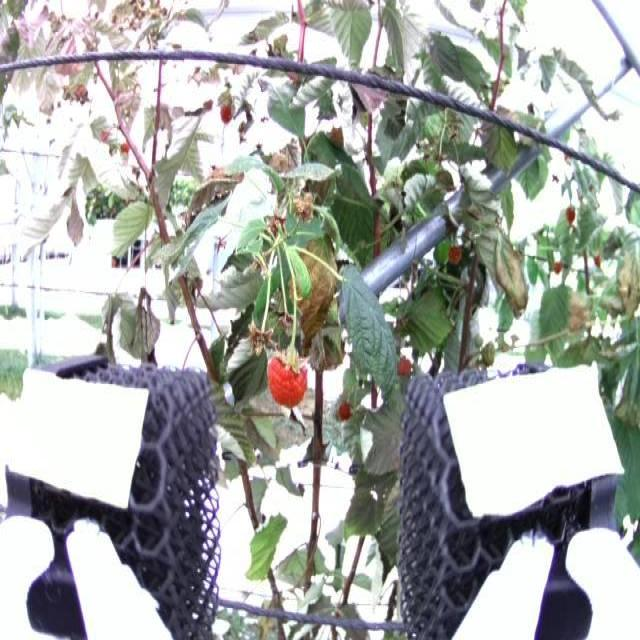Riped berries: (264, 348, 316, 410), (334, 395, 357, 426), (445, 241, 464, 268), (396, 352, 415, 378)
